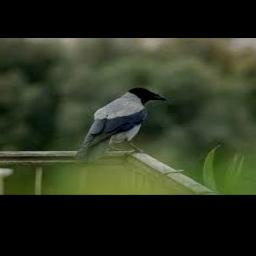Crow: (74, 86, 167, 160)
